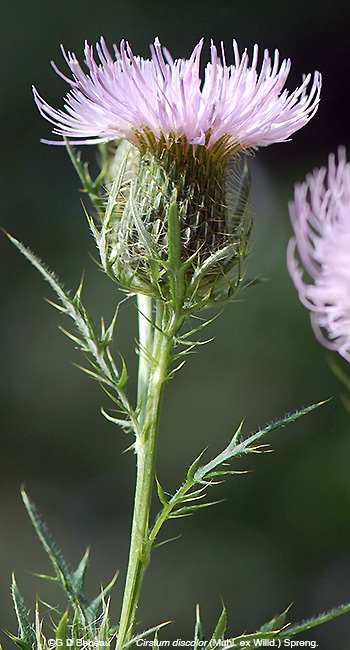thistle: (41, 42, 313, 307)
